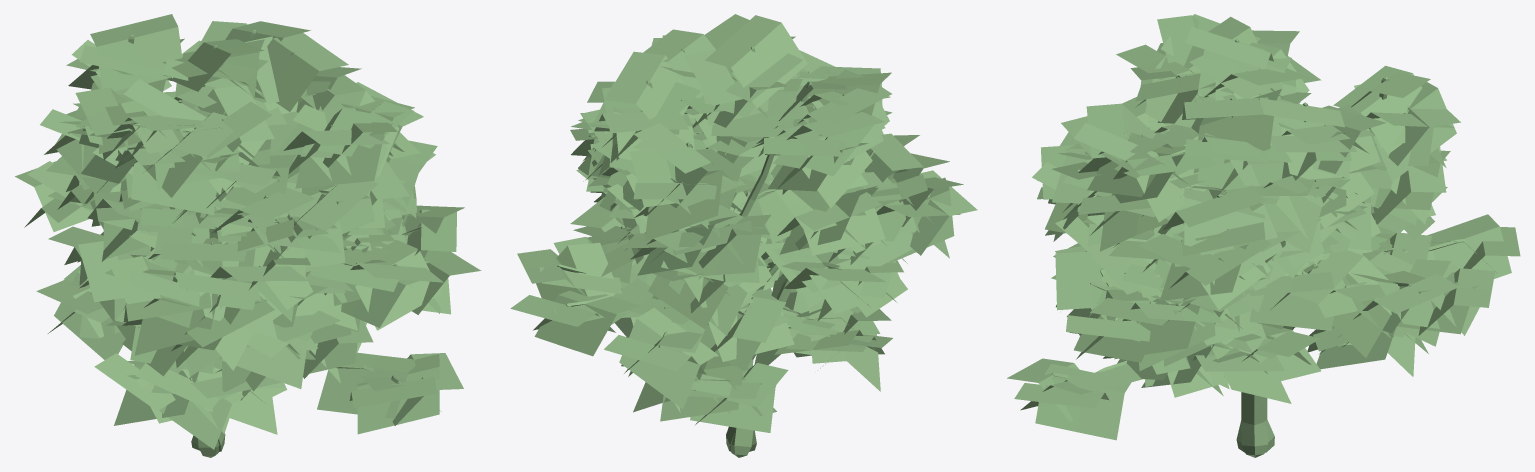
The model's file is arvore_importada_3.glb.
3 views of the same model, side by side, from view 1: azimuth 30°, elevation 25°; view 2: azimuth 150°, elevation 25°; view 3: azimuth 270°, elevation 25° (orthographic). The views are drawn at different scales.
Parts seen in each view (by area): view 1: world; view 2: world; view 3: world.
Boxes of the visible parts, box(x1,y1,x2,y2) form: world: box(15, 14, 481, 457); world: box(510, 14, 977, 457); world: box(1007, 14, 1520, 457).
Size of the model in its own units: 8.1 by 9.01 by 9.91.
